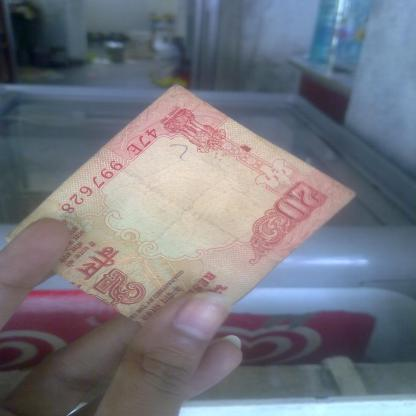Old20Front: (35, 88, 341, 334)
